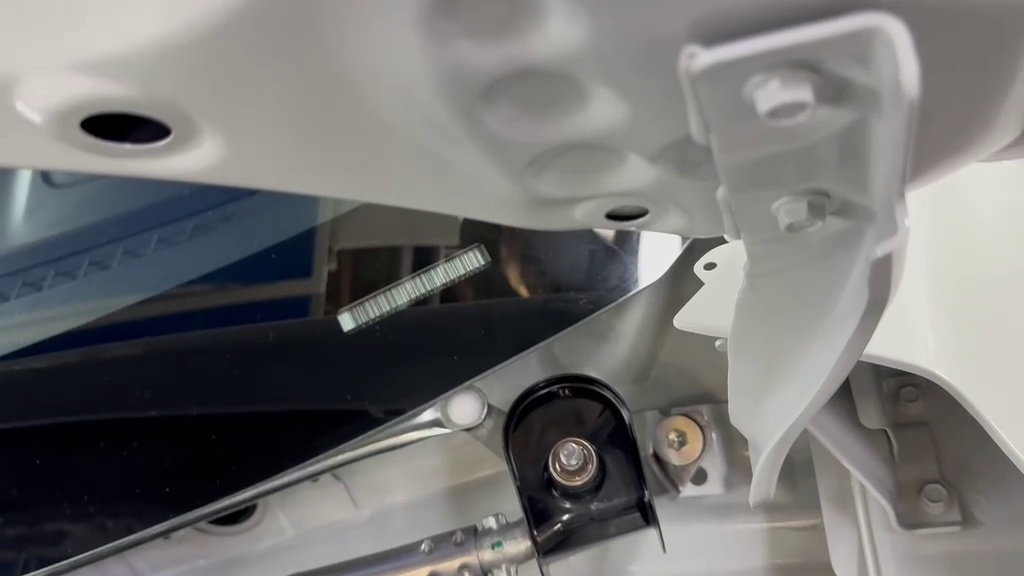barcode: (473, 368, 698, 576)
hinge: (311, 216, 543, 362)
